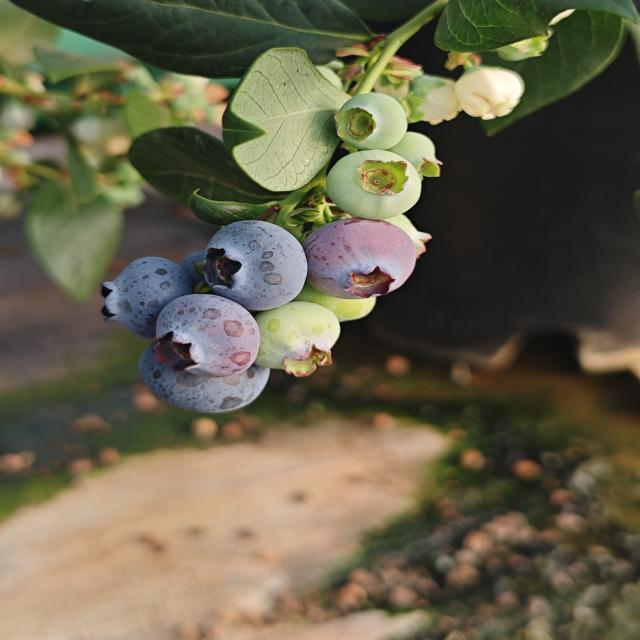ripe: (197, 216, 313, 315), (296, 214, 423, 301), (138, 340, 273, 416), (149, 288, 265, 374), (97, 248, 200, 344)
